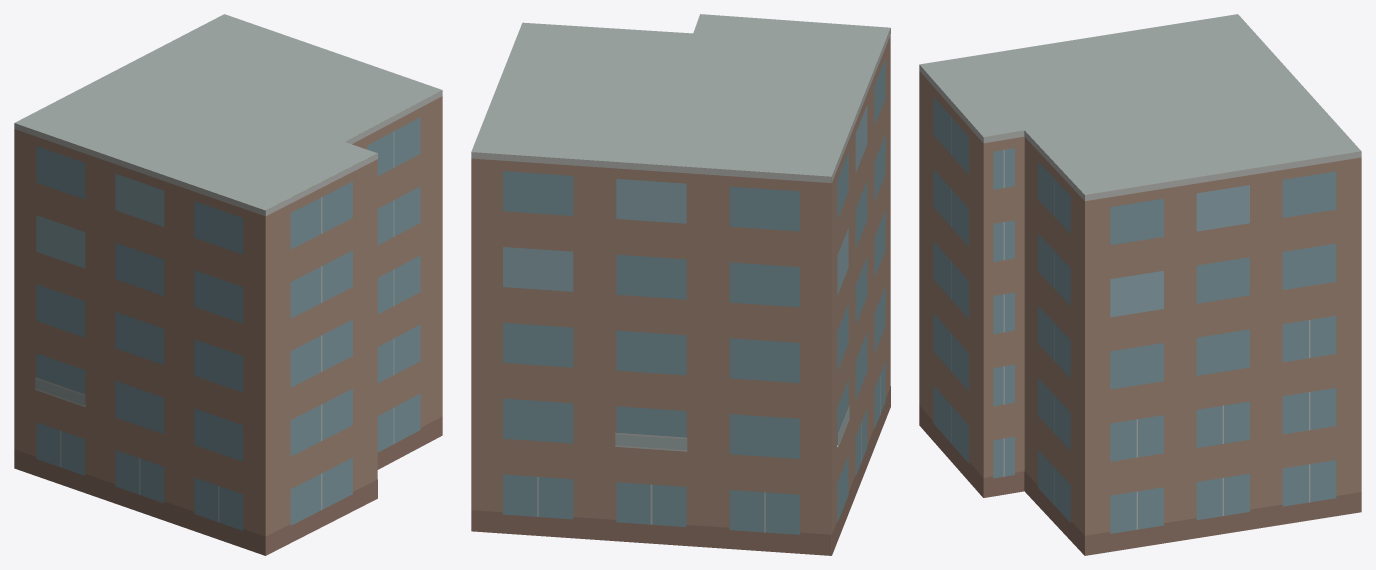
File: survey-upis-32854430.glb
3 renders of one model, left to right at view 1: azimuth 30°, elevation 25°; view 2: azimuth 150°, elevation 25°; view 3: azimuth 270°, elevation 25°, orthographic. The views are drawn at different scales.
Parts seen in each view (by area): view 1: survey-upis-32854430.tmp; view 2: survey-upis-32854430.tmp; view 3: survey-upis-32854430.tmp.
Part boxes in pixels (x1=…): survey-upis-32854430.tmp: x1=14, y1=14, x2=442, y2=555; survey-upis-32854430.tmp: x1=471, y1=14, x2=890, y2=555; survey-upis-32854430.tmp: x1=919, y1=14, x2=1361, y2=555.
Size of the model in its own units: 15.4 by 14.3 by 15.9.
